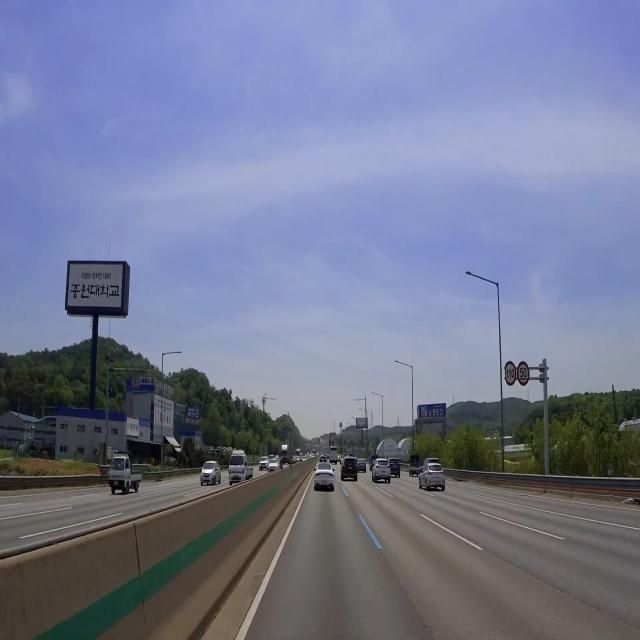car: (230, 472, 241, 488), (378, 467, 389, 480), (111, 478, 121, 490), (320, 477, 329, 490), (346, 466, 356, 477), (431, 478, 442, 488), (202, 476, 213, 484), (391, 464, 400, 472)
